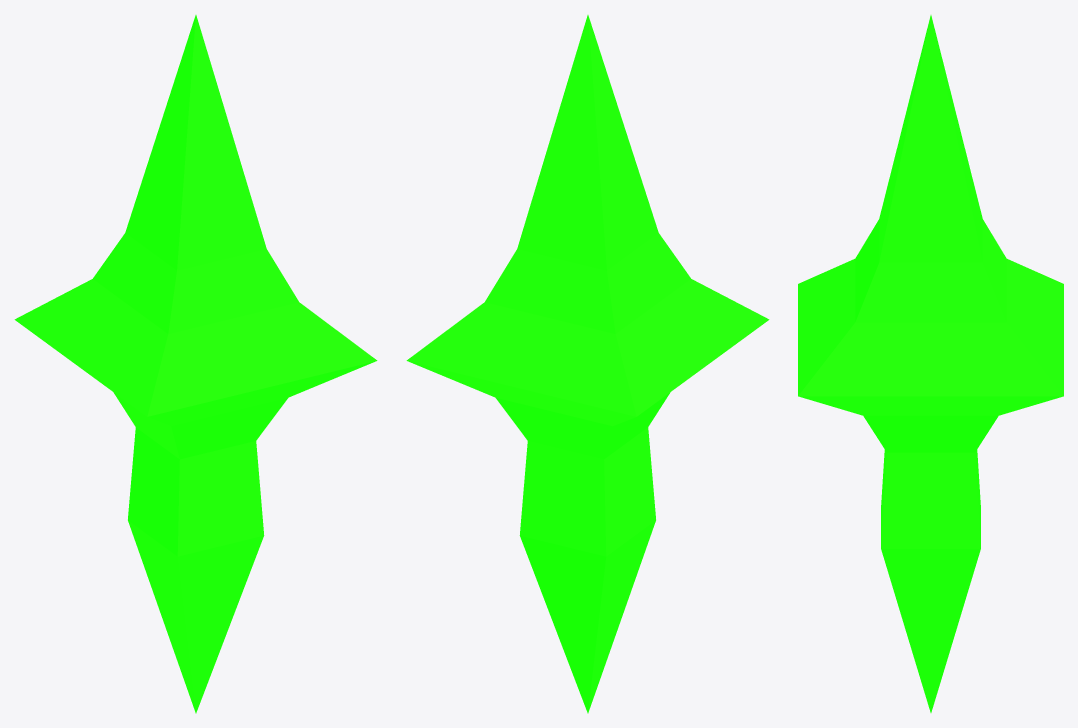
The model's file is Crystal.glb.
The picture shows the model from 3 angles, left to right: view 1: azimuth 30°, elevation 25°; view 2: azimuth 150°, elevation 25°; view 3: azimuth 270°, elevation 25°; orthographic projection.
Visible parts, largest first — view 1: Cube; view 2: Cube; view 3: Cube.
Part boxes in pixels (bbox=[...]): Cube: bbox=[14, 15, 377, 713]; Cube: bbox=[406, 15, 769, 713]; Cube: bbox=[798, 15, 1063, 712].
Bounding box in the file's own units: 2 × 5.81 × 2.
